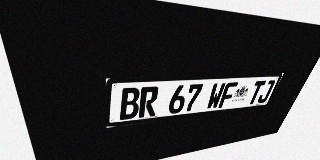6: (168, 85, 188, 114)
7: (183, 84, 203, 112)
B: (120, 87, 140, 120)
F: (218, 82, 238, 108)
J: (256, 80, 276, 103)
R: (138, 86, 159, 118)
T: (246, 81, 266, 105)
W: (205, 83, 226, 110)
